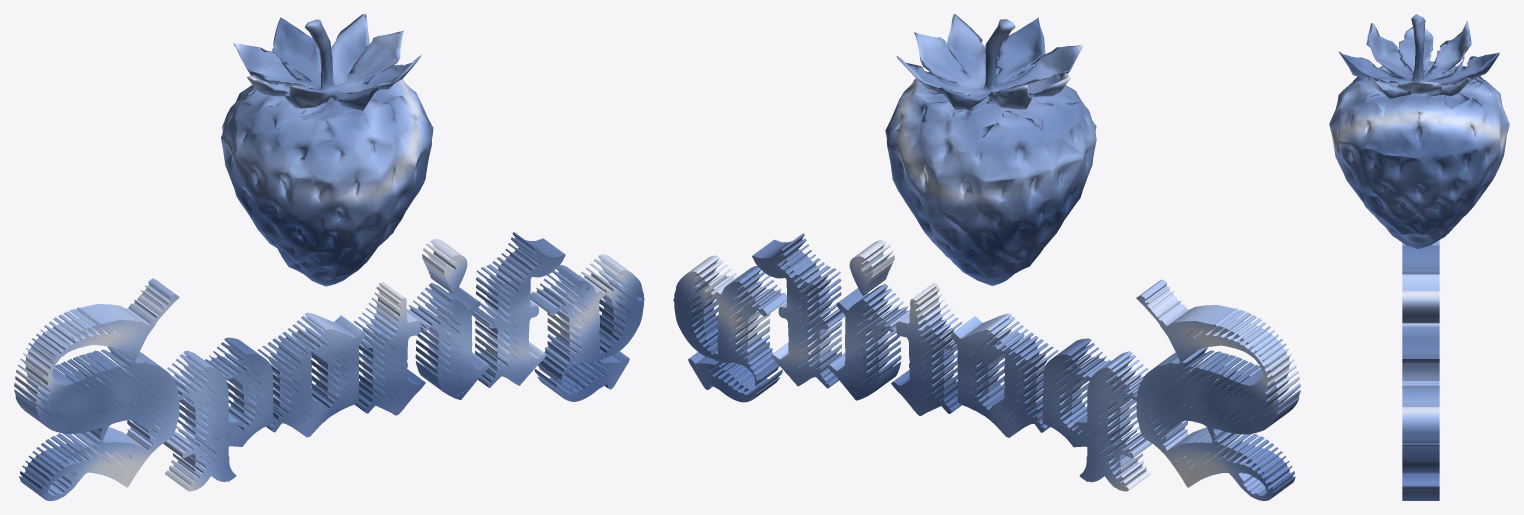
File: spotify.glb
The picture shows the model from 3 angles, left to right: view 1: azimuth 30°, elevation 25°; view 2: azimuth 150°, elevation 25°; view 3: azimuth 270°, elevation 25°; orthographic projection. The views are drawn at different scales.
Visible parts, largest first — view 1: Spotify, Mesh1; view 2: Spotify, Mesh1; view 3: Mesh1, Spotify.
Part boxes in pixels (x1,y1,x2,y2): Spotify: (14, 232, 644, 500); Mesh1: (221, 14, 433, 286); Spotify: (673, 233, 1300, 500); Mesh1: (885, 14, 1096, 285); Mesh1: (1329, 14, 1509, 249); Spotify: (1402, 240, 1439, 500).
Bounding box in the file's own units: 4.71 × 3.22 × 1.43.
2 materials, 2 textured.
